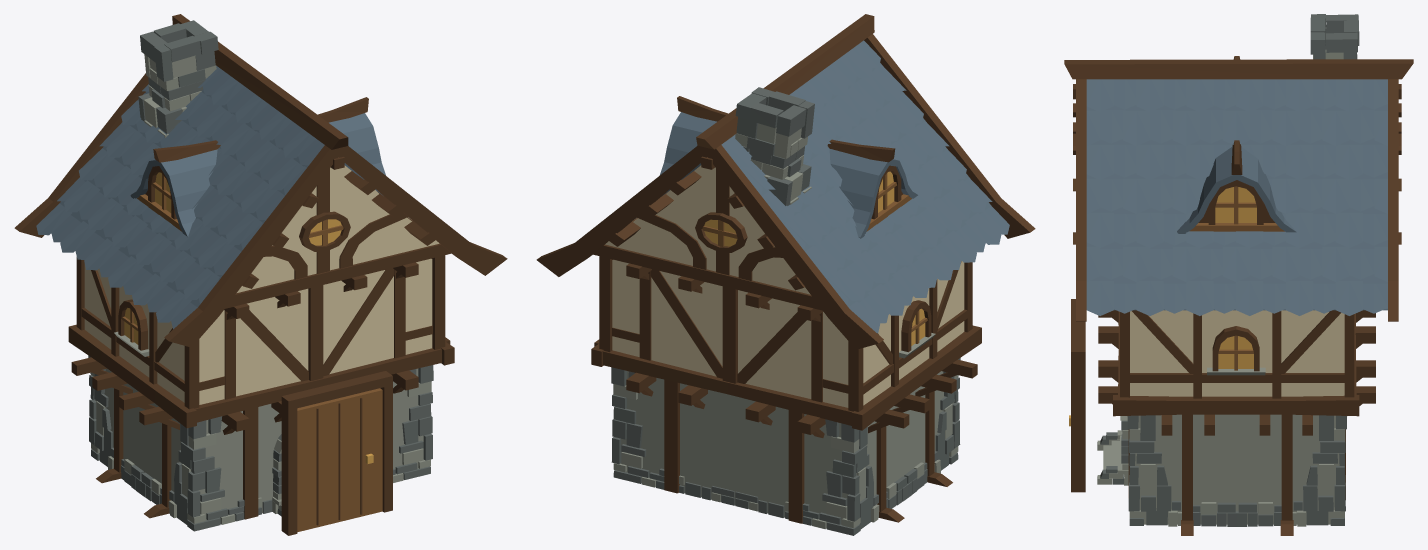
The model's file is house_b.glb.
3 renders of one model, left to right at view 1: azimuth 30°, elevation 25°; view 2: azimuth 150°, elevation 25°; view 3: azimuth 270°, elevation 25°, orthographic. The views are drawn at different scales.
Parts seen in each view (by area): view 1: house_b; view 2: house_b; view 3: house_b.
Boxes of the visible parts, x1,y1,x2,y2 form: house_b: (14, 14, 507, 535); house_b: (536, 14, 1035, 535); house_b: (1064, 14, 1413, 535).
Bounding box in the file's own units: 7 × 8 × 6.
